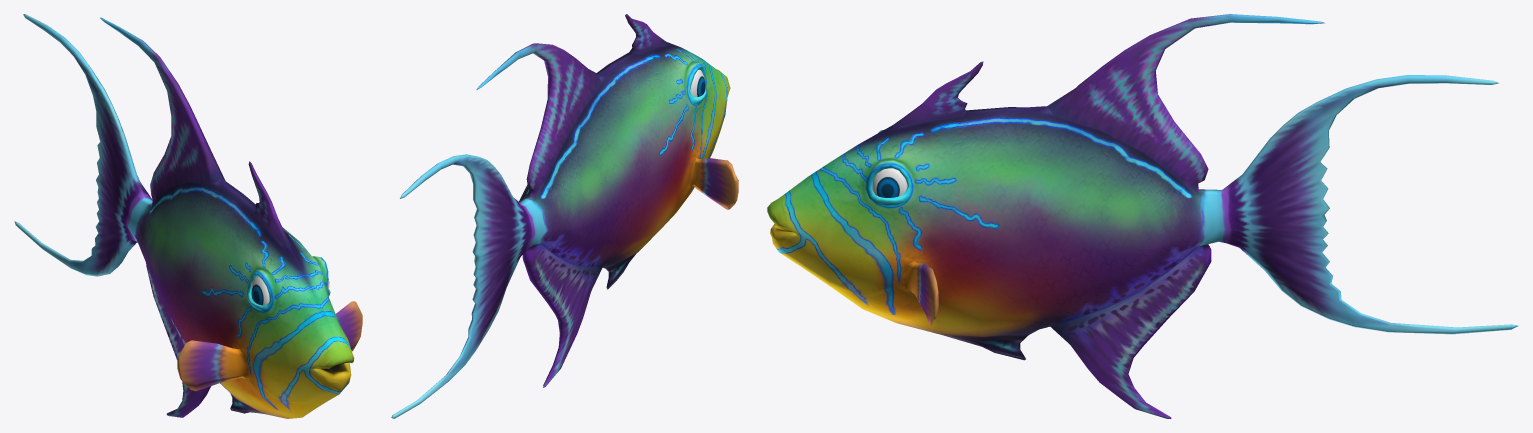
The model's file is queen_trigger_fish.glb.
3 views of the same model, side by side, from view 1: azimuth 30°, elevation 25°; view 2: azimuth 150°, elevation 25°; view 3: azimuth 270°, elevation 25° (orthographic). The views are drawn at different scales.
Parts seen in each view (by area): view 1: node_id68_2, node_id70_3; view 2: node_id68_2, node_id70_3; view 3: node_id68_2, node_id72_4.
Boxes of the visible parts, x1=… form: node_id68_2: x1=14, y1=14, x2=362, y2=418; node_id70_3: x1=251, y1=276, x2=269, y2=305; node_id68_2: x1=391, y1=14, x2=738, y2=418; node_id70_3: x1=690, y1=69, x2=705, y2=97; node_id68_2: x1=767, y1=14, x2=1518, y2=418; node_id72_4: x1=872, y1=168, x2=907, y2=197.
Bounding box in the file's own units: 0.1657 × 0.3044 × 0.512.
3 materials, 3 textured.
